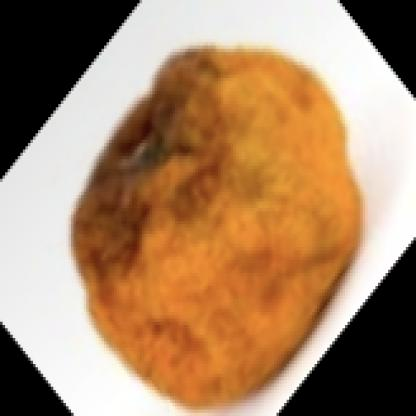rotten: (68, 45, 362, 411)
